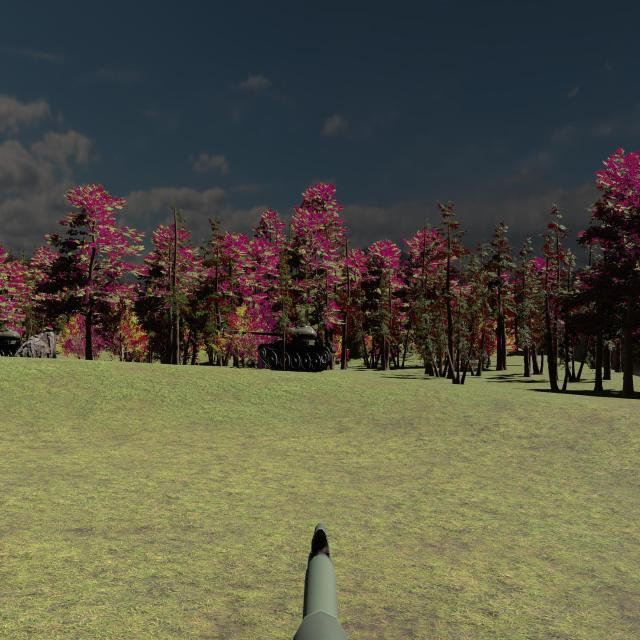Tank: (226, 321, 334, 374), (0, 329, 31, 358)
